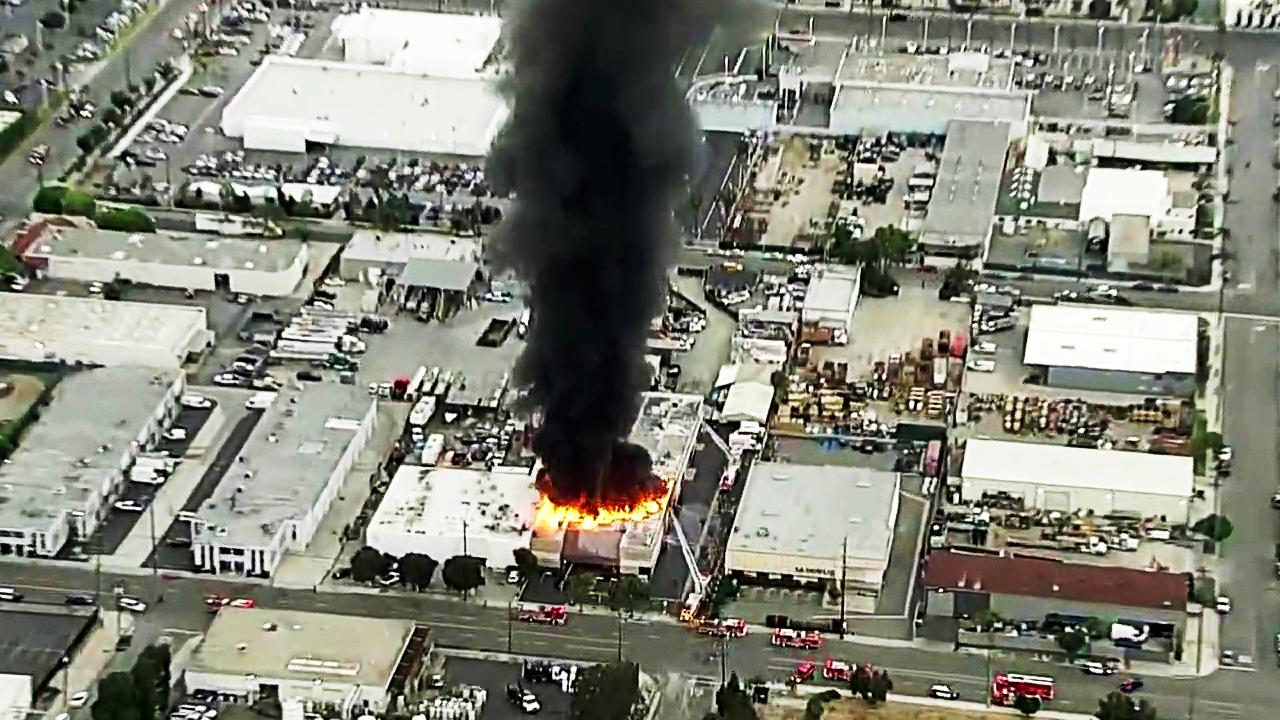fire: (539, 497, 647, 528)
smoke: (537, 22, 619, 486)
